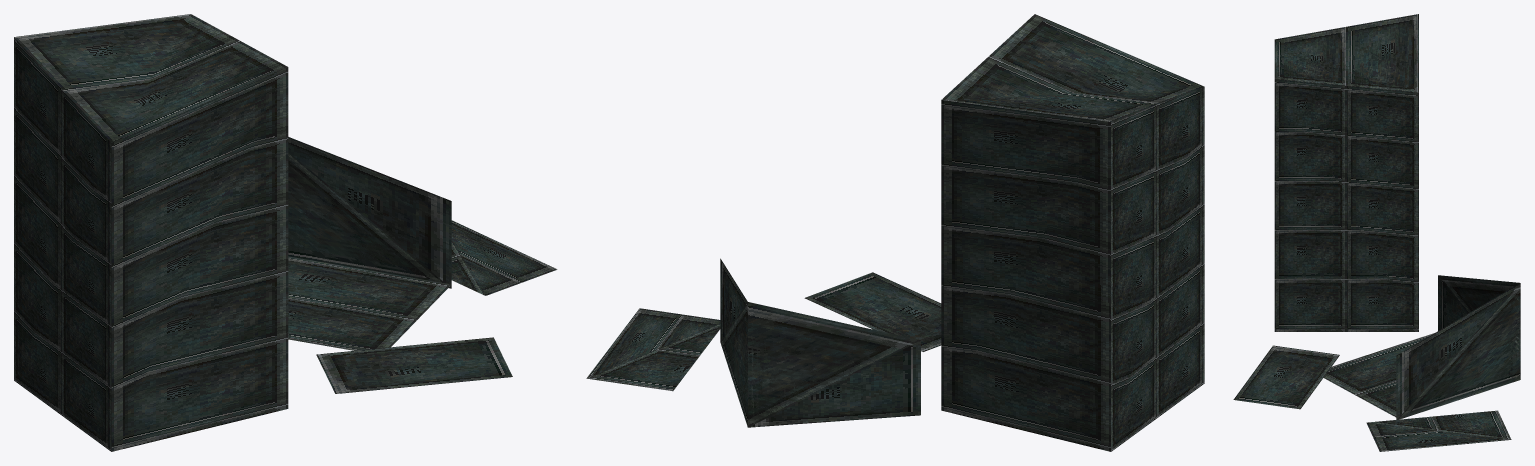
Rendered from Environment - Prop - Ammo Cache - Damaged - PMCrates04_d.glb.
3 renders of one model, left to right at view 1: azimuth 30°, elevation 25°; view 2: azimuth 150°, elevation 25°; view 3: azimuth 270°, elevation 25°, orthographic. The views are drawn at different scales.
Parts seen in each view (by area): view 1: PMCRATES04_D; view 2: PMCRATES04_D; view 3: PMCRATES04_D.
Boxes of the visible parts, x1,y1,x2,y2 form: PMCRATES04_D: (14,14,557,451); PMCRATES04_D: (586,14,1204,451); PMCRATES04_D: (1233,14,1520,451).
Bounding box in the file's own units: 16.57 × 10.51 × 10.77.
Materials: 1 (1 with a texture image).
